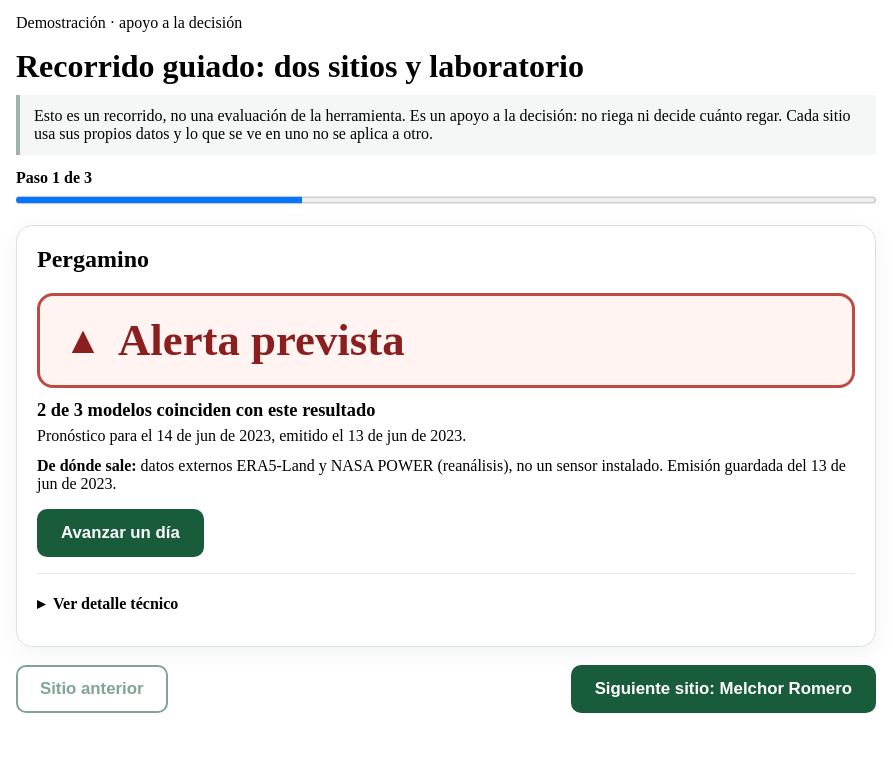
Pergamino y Melchor Romero › does not claim a result when the target-day value is imputed
This screenshot has width=893, height=766.
Expected: the text "Alerta prevista" is shown, 118,316 -> 404,365
Step 1. Click the button "Avanzar un día" → (120, 533), box 37,509 -> 204,557
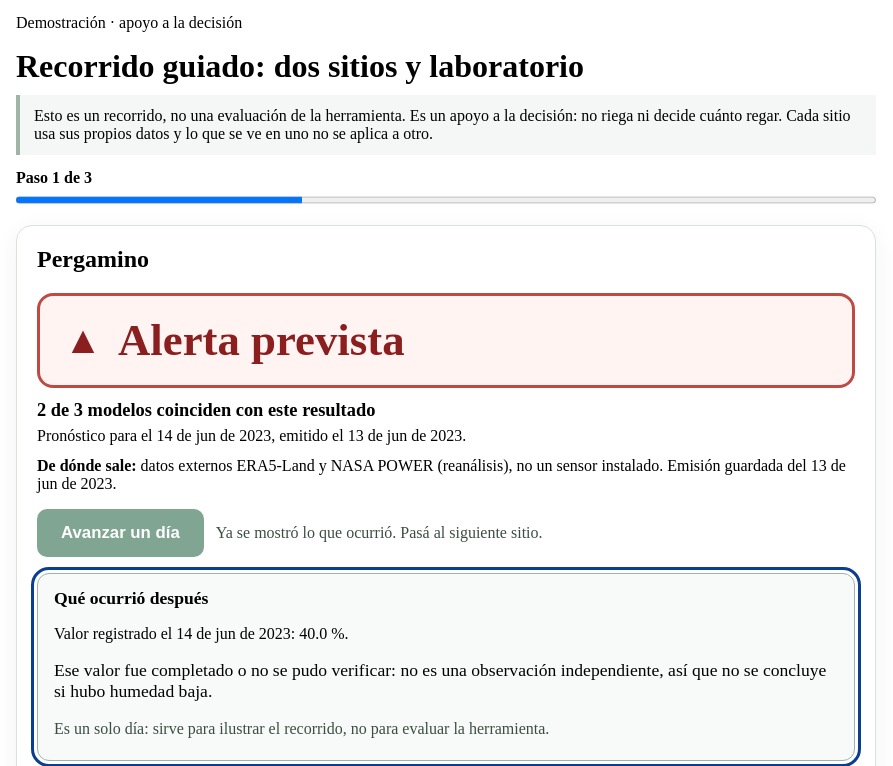
Now the element "Qué ocurrió después" shows "no es una observación independiente", box 54,660 -> 826,701
